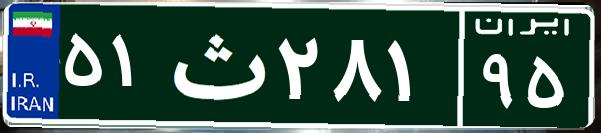1: (385, 28, 445, 110), (110, 28, 158, 105)
2: (273, 28, 330, 110)
5: (57, 26, 110, 107), (525, 38, 570, 115)
8: (330, 28, 385, 110)
9: (475, 38, 525, 113)
ث: (158, 15, 273, 115)
